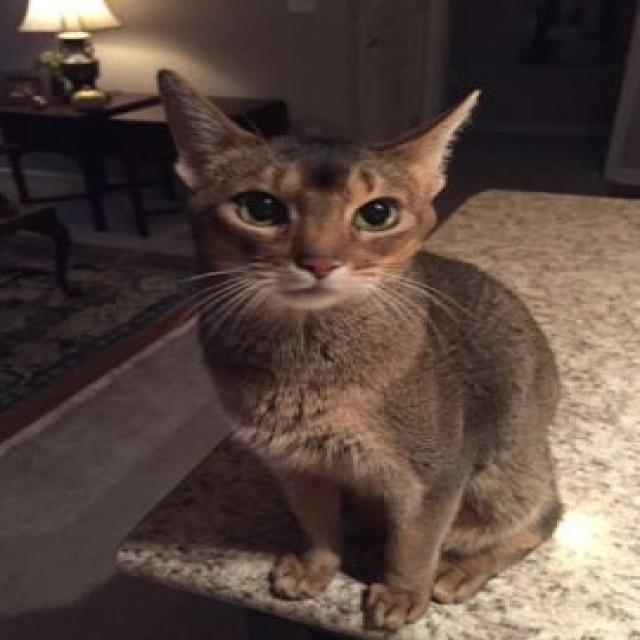Abyssinian: (149, 64, 576, 640)
